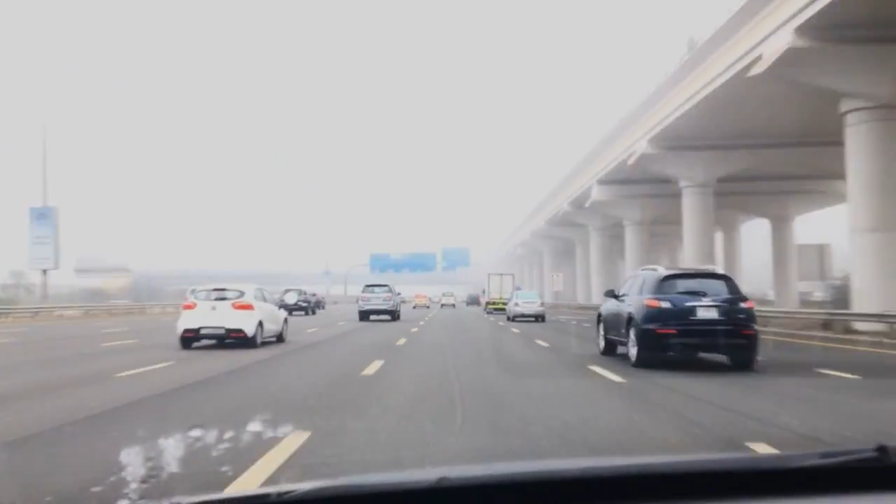bus: (480, 272, 518, 316)
car: (592, 263, 762, 373), (177, 282, 291, 346), (356, 282, 402, 323), (504, 289, 547, 323), (275, 287, 310, 318), (305, 291, 328, 314), (437, 289, 458, 310), (410, 292, 431, 310), (464, 292, 482, 308), (430, 292, 441, 301), (396, 294, 406, 303)
